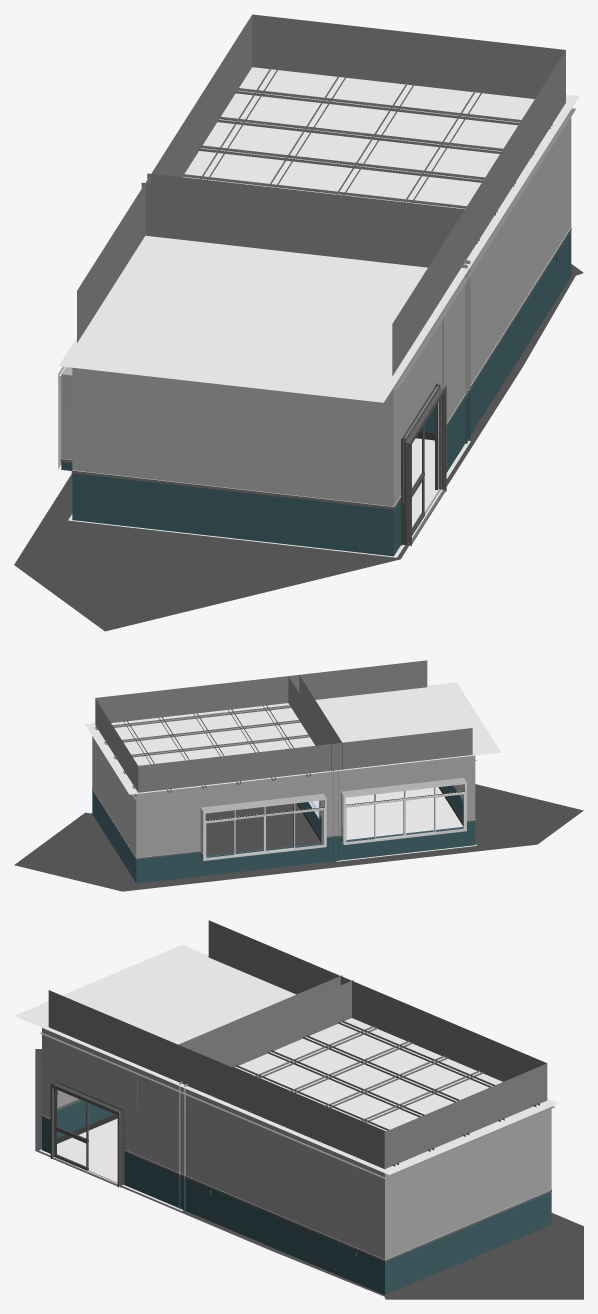
The model's file is SM_H_Building_Tide_MedicalRoom_11_ATLAS.fbx.
The picture shows the model from 3 angles, top to bottom: view 1: azimuth 30°, elevation 25°; view 2: azimuth 150°, elevation 25°; view 3: azimuth 270°, elevation 25°; orthographic projection. The views are drawn at different scales.
Visible parts, largest first — view 1: SM_H_Building_Tide_MedicalRoom_11_ATLAS; view 2: SM_H_Building_Tide_MedicalRoom_11_ATLAS; view 3: SM_H_Building_Tide_MedicalRoom_11_ATLAS.
Part boxes in pixels (bbox=[...]): SM_H_Building_Tide_MedicalRoom_11_ATLAS: bbox=[14, 14, 583, 631]; SM_H_Building_Tide_MedicalRoom_11_ATLAS: bbox=[14, 660, 583, 891]; SM_H_Building_Tide_MedicalRoom_11_ATLAS: bbox=[14, 920, 583, 1299].
Size of the model in its own units: 1816 by 1743 by 552.
